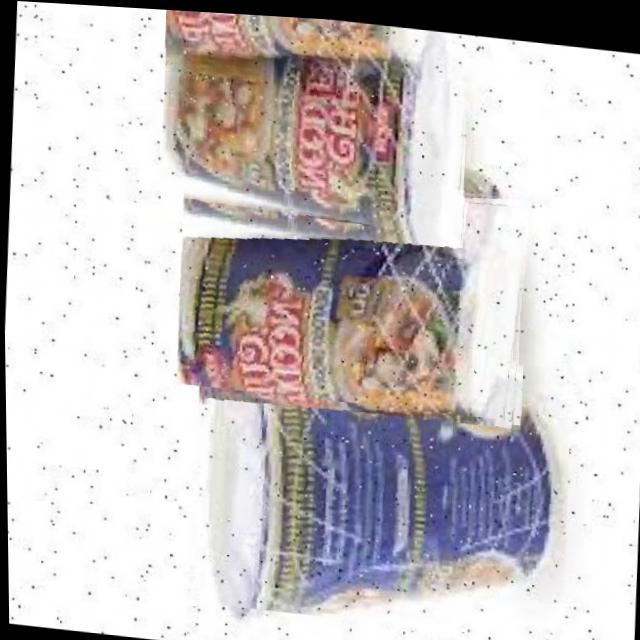Miscellaneous: (185, 315, 574, 637), (172, 153, 530, 416), (156, 7, 471, 234)
